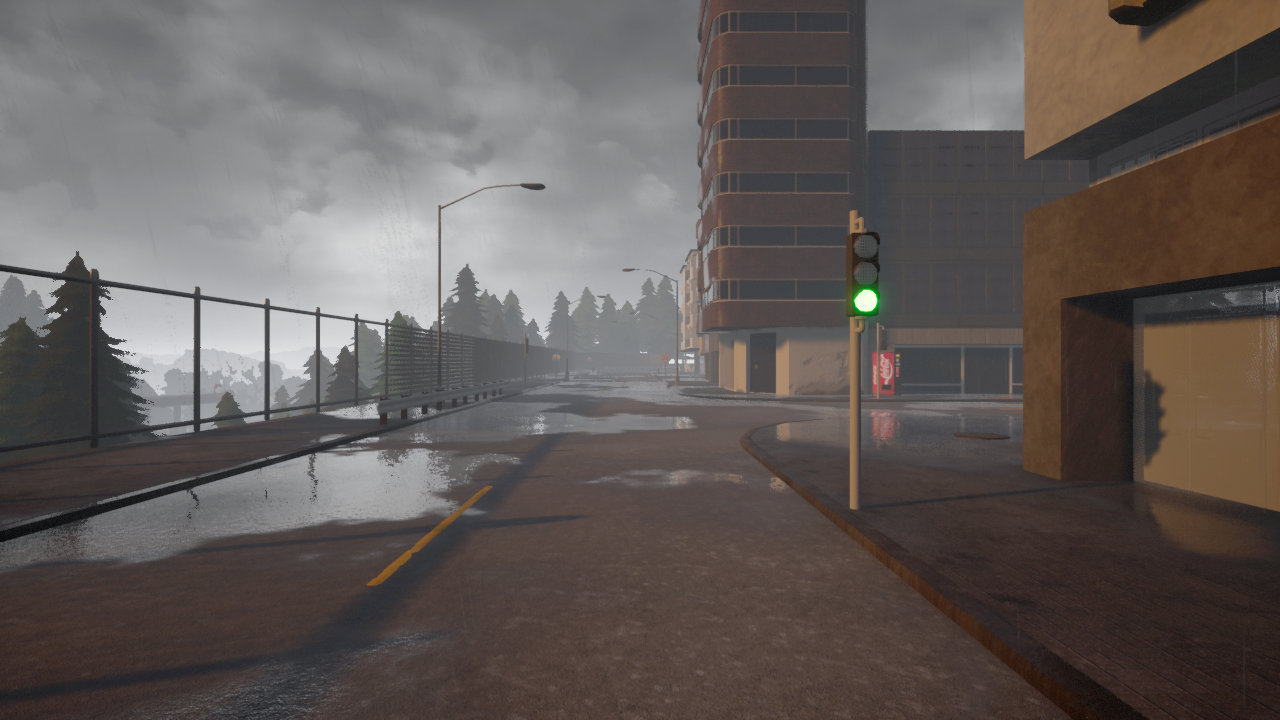green: (845, 231, 881, 319)
